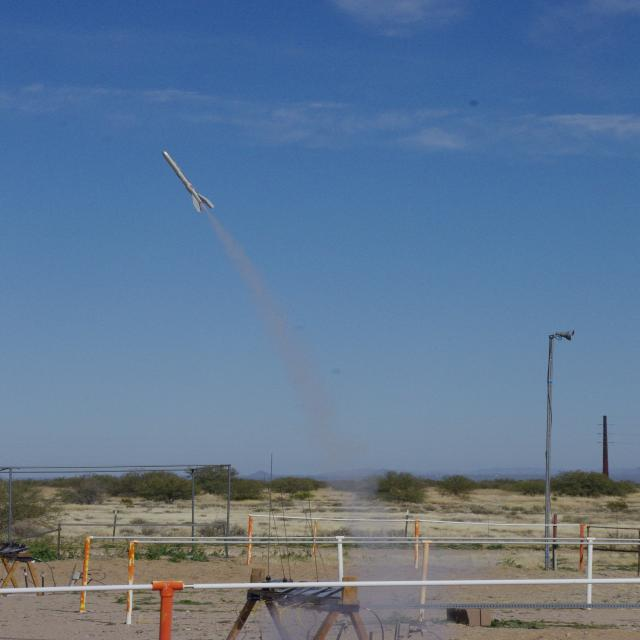Rocket: (161, 150, 215, 213)
